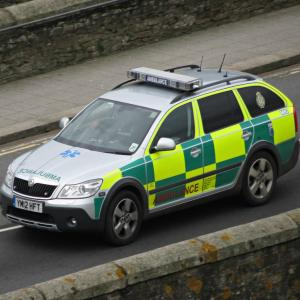Vehicle-registration-plate: (13, 195, 45, 214)
